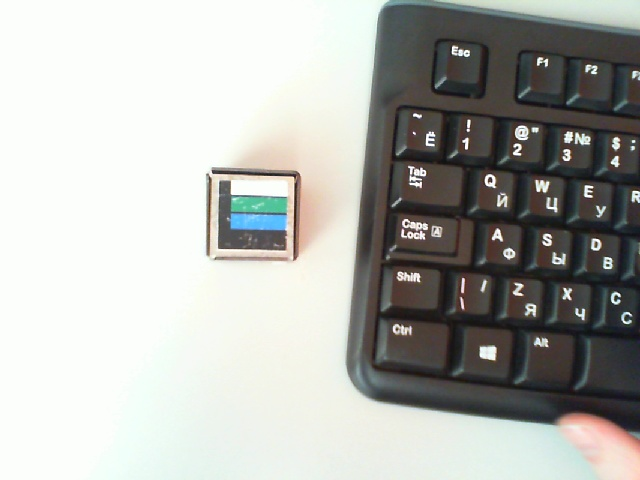square: (217, 179, 289, 251)
